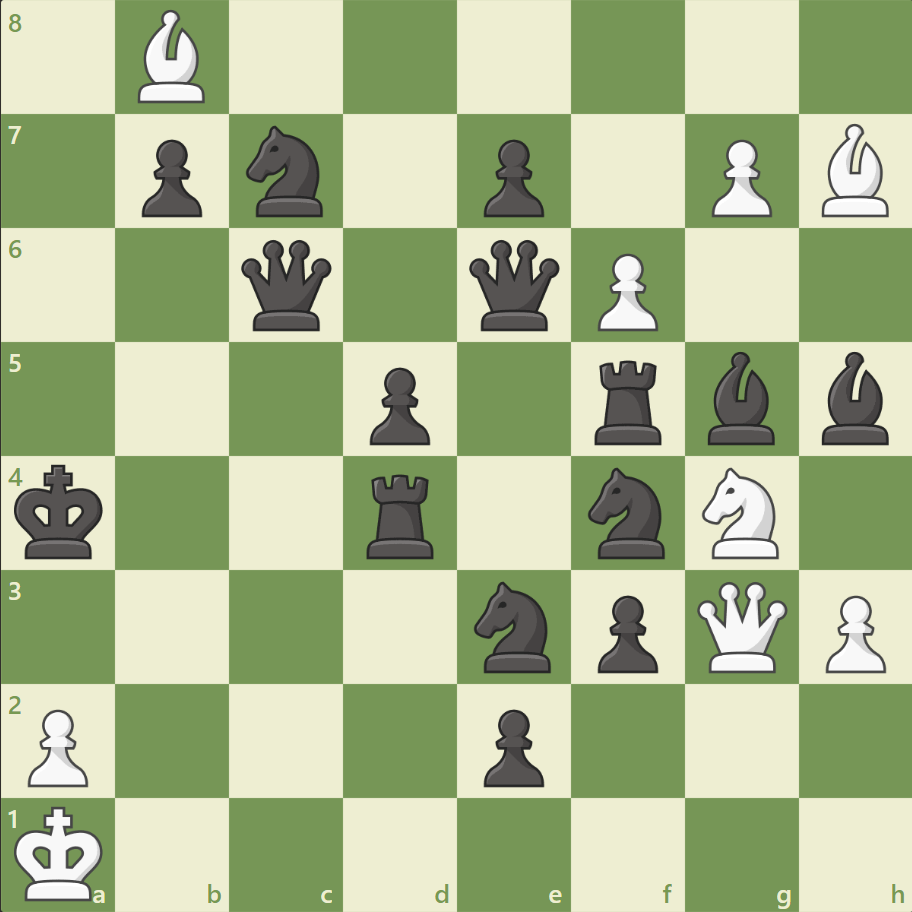B: (131, 6, 215, 109), (812, 120, 896, 222)
K: (11, 798, 111, 906)
N: (692, 461, 789, 564)
P: (701, 132, 776, 223), (20, 700, 95, 791), (588, 246, 662, 337), (815, 586, 889, 677)
Q: (691, 576, 790, 676)
b: (698, 347, 782, 449), (812, 347, 896, 449)
k: (11, 458, 111, 566)
n: (579, 461, 676, 564), (238, 121, 335, 223), (465, 575, 562, 677)
p: (133, 132, 208, 223), (474, 132, 549, 223), (474, 700, 549, 791), (361, 359, 435, 450), (588, 586, 662, 677)
q: (237, 236, 336, 335), (464, 236, 563, 335)
r: (587, 352, 670, 449), (360, 466, 442, 563)
